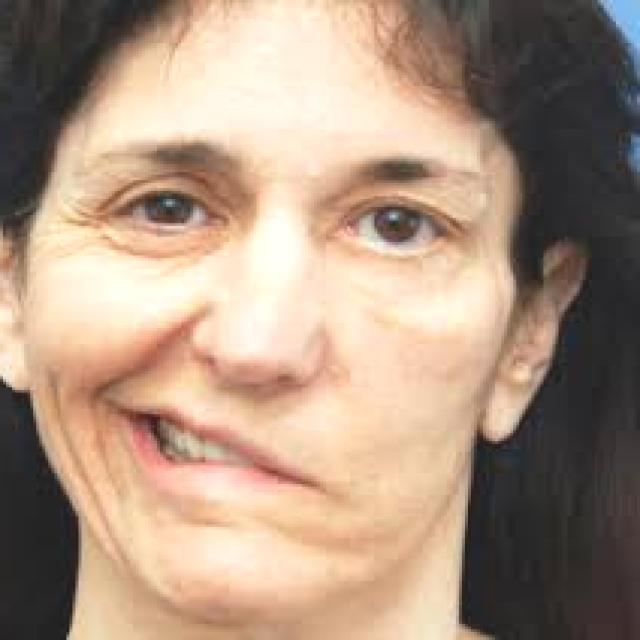stroke_face: (9, 42, 553, 611)
